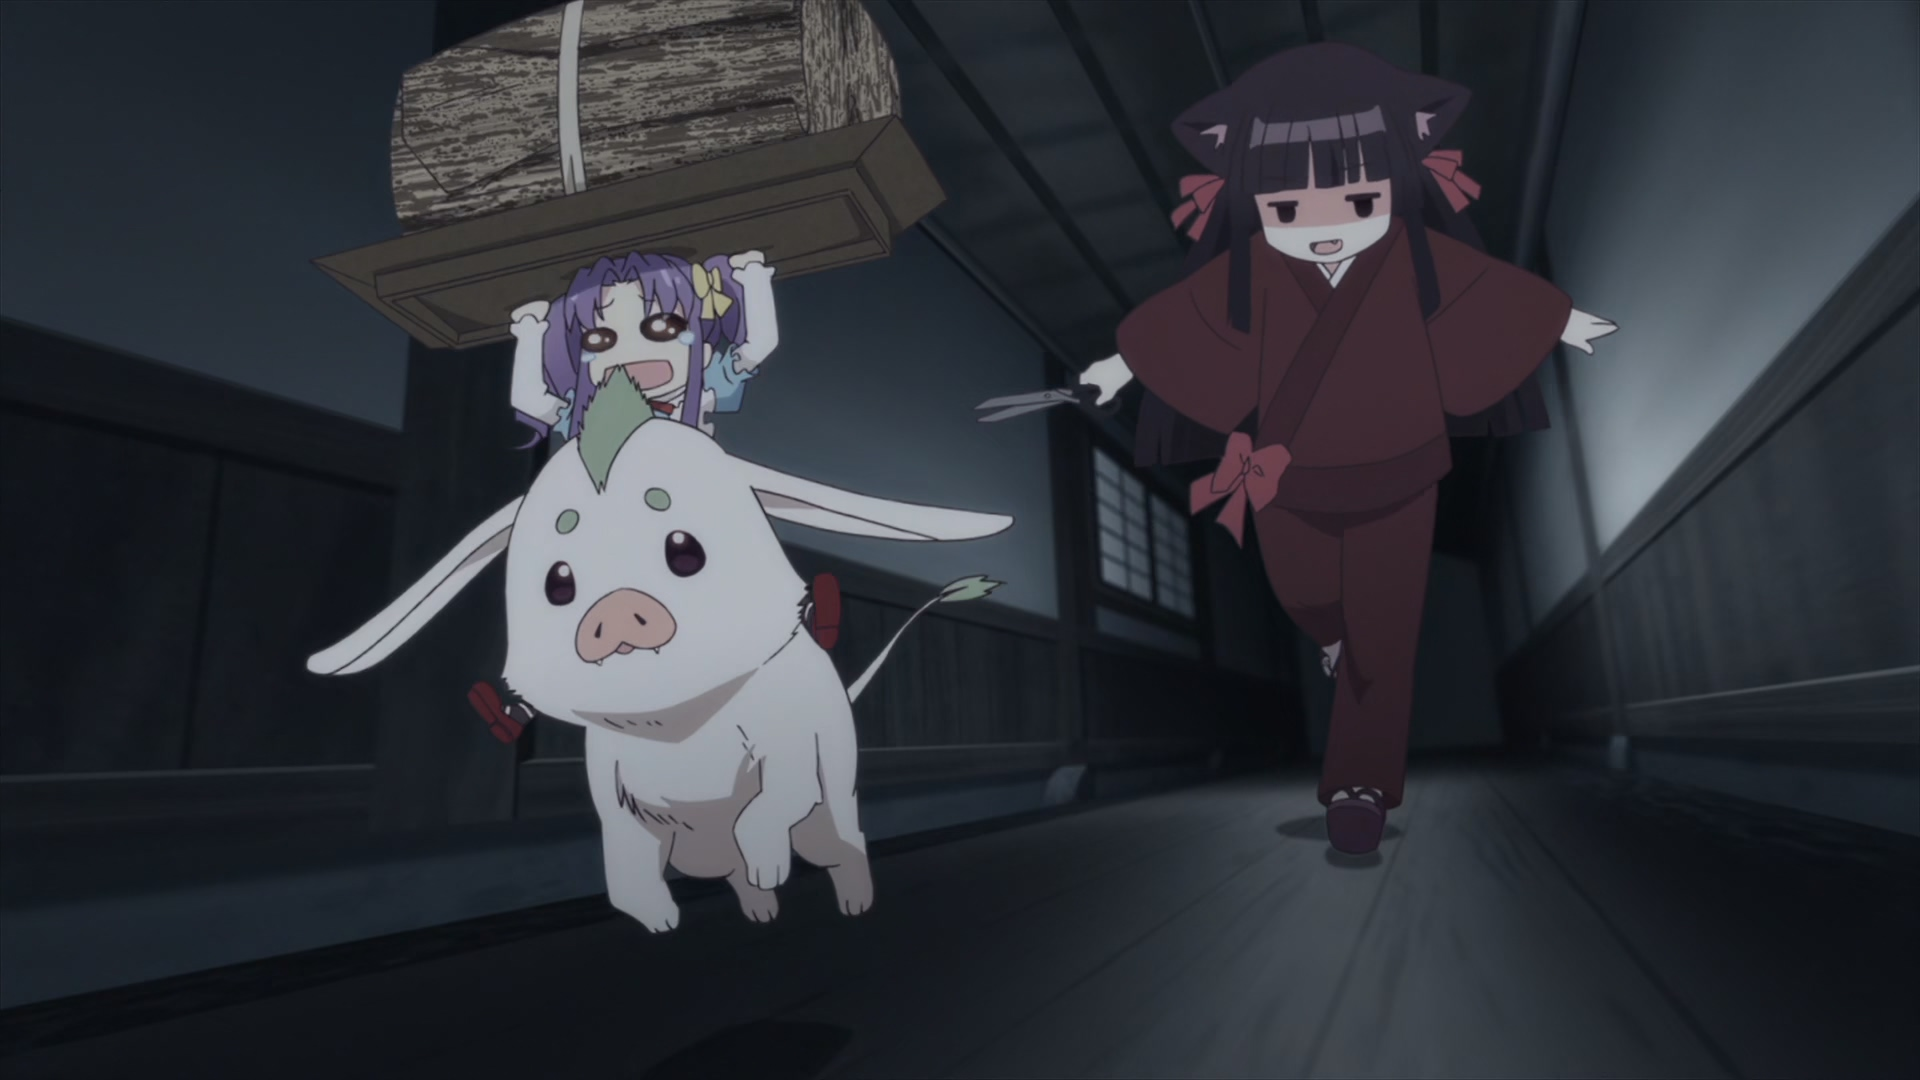樱: (973, 44, 1619, 873)
瓜之介: (309, 371, 1013, 935)
阿菊: (510, 251, 777, 451)
